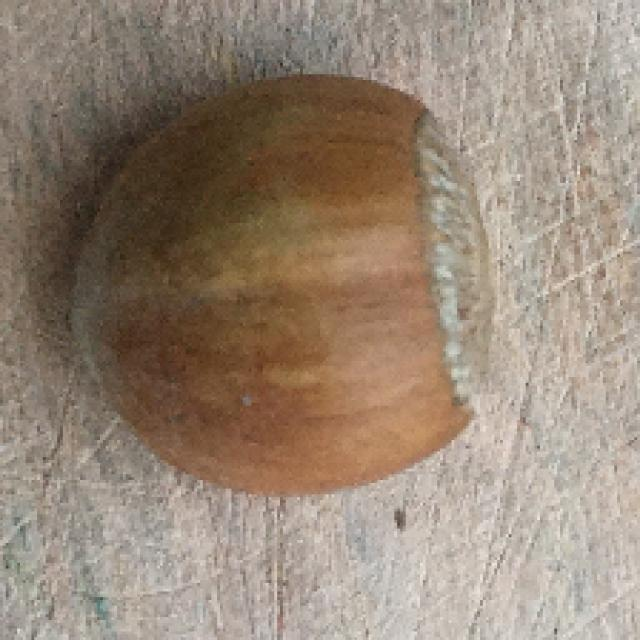qualityHazelnut: (66, 73, 495, 487)
